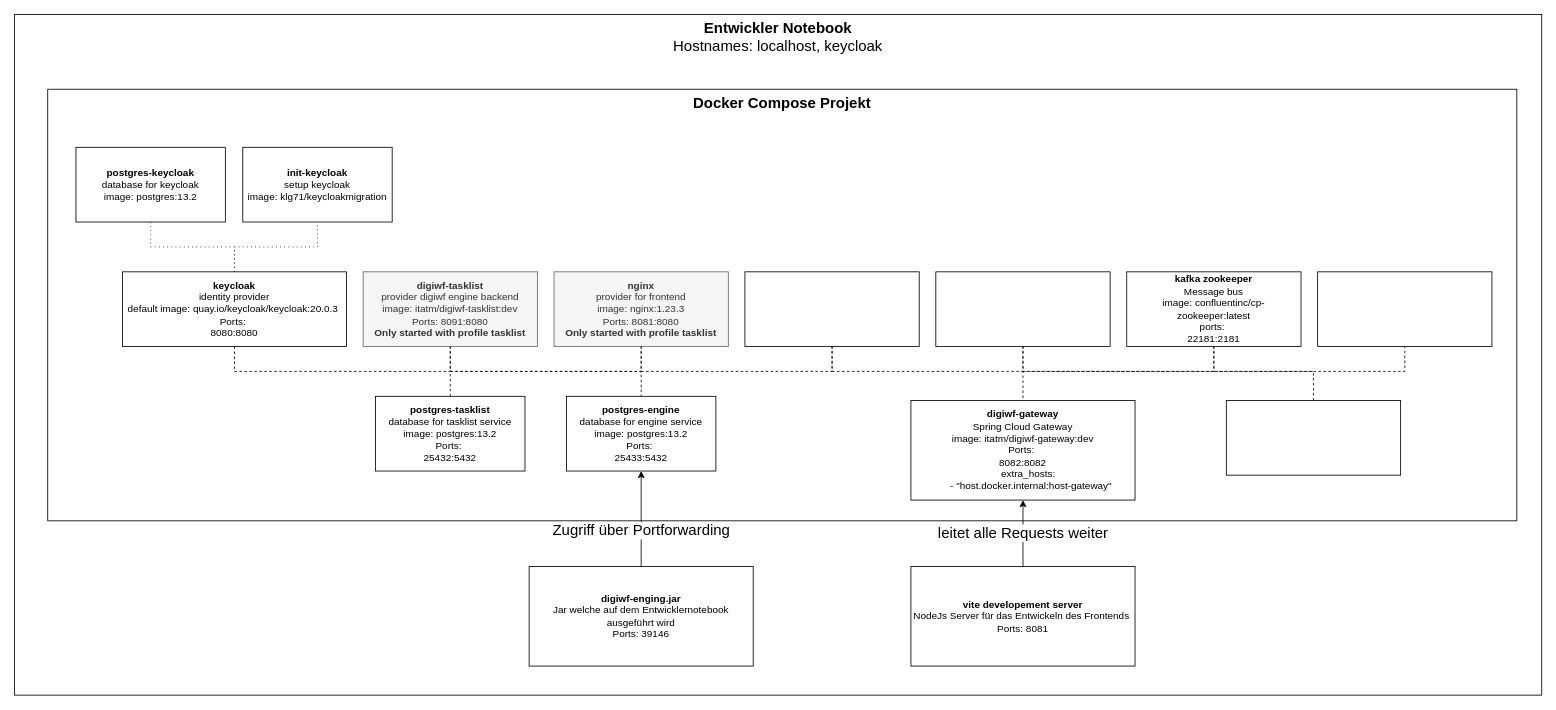
The diagram is 1556 pixels wide and 710 high, and some of its shapes have lost their labels. The shapes that lost their labels are listed below. From the top down, each one's centre as x and y in pixels, then its label:
At pixel 831 309: "mailhog Mail Server Ports: 1025:1025 9025:8025".
At pixel 1022 309: "minio S3 compatible object storage Ports: 9000:9000 9001:9001".
At pixel 1404 309: "kafka init Message bus image: confluentinc/cp-kafka:latest ports: 29092:29092".
At pixel 1313 437: "kafka Message bus image: confluentinc/cp-kafka:latest Ports: 29092:29092".
